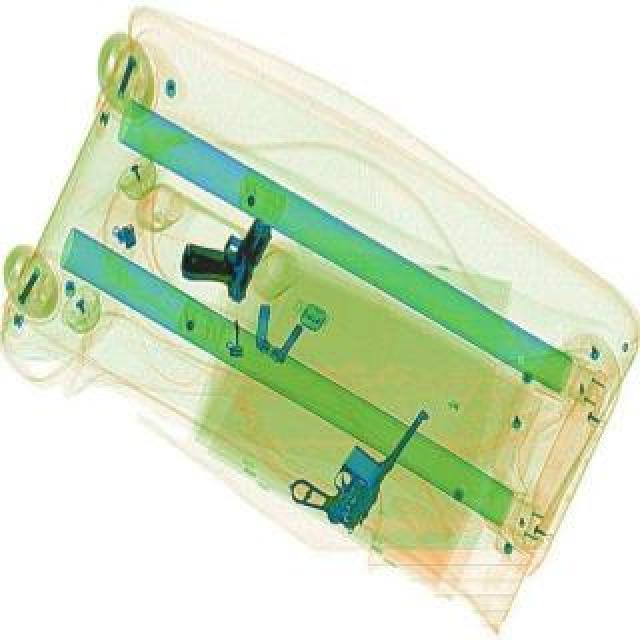gun: (282, 372, 438, 536), (174, 194, 280, 302)
